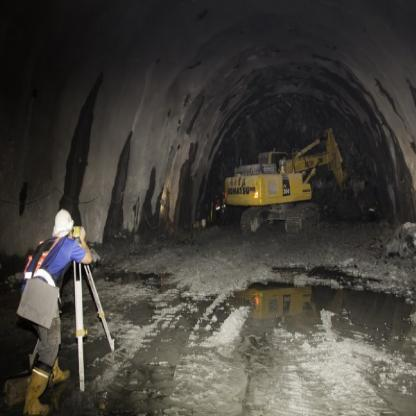excavator: (217, 112, 377, 249)
person: (11, 189, 117, 415)
